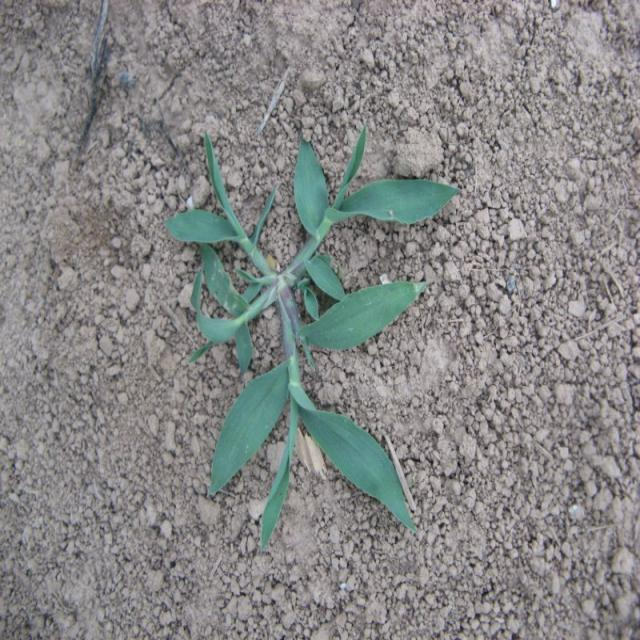bg: (167, 131, 461, 541)
